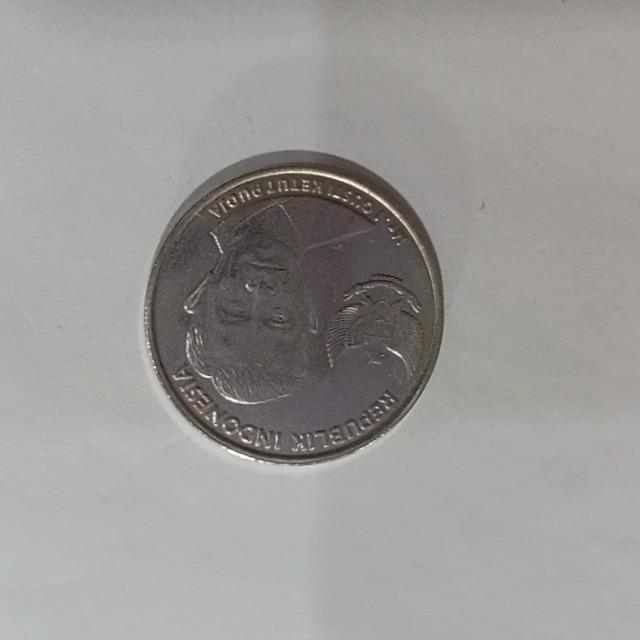Rp100: (141, 149, 445, 467)
